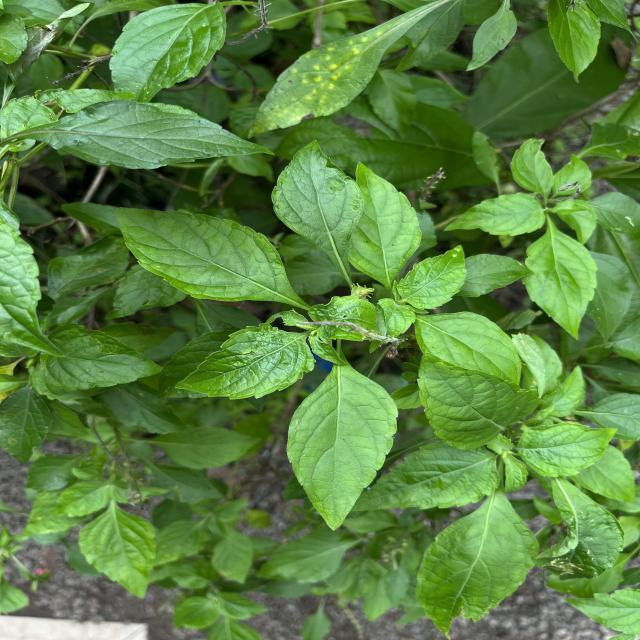Ocimum gratissimum: (282, 356, 402, 534), (1, 97, 282, 172), (113, 204, 309, 308), (412, 492, 542, 640), (270, 138, 366, 288), (106, 0, 231, 109), (414, 350, 544, 453), (173, 321, 320, 403), (348, 159, 423, 290), (520, 223, 602, 342), (516, 420, 620, 479), (544, 0, 604, 85)
